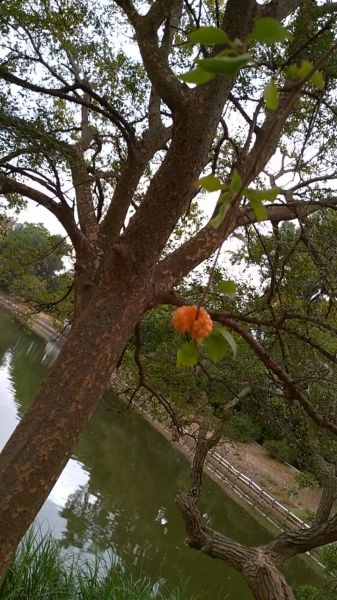eggs: (167, 302, 217, 339)
